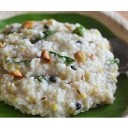venpongal: (1, 18, 120, 113)
